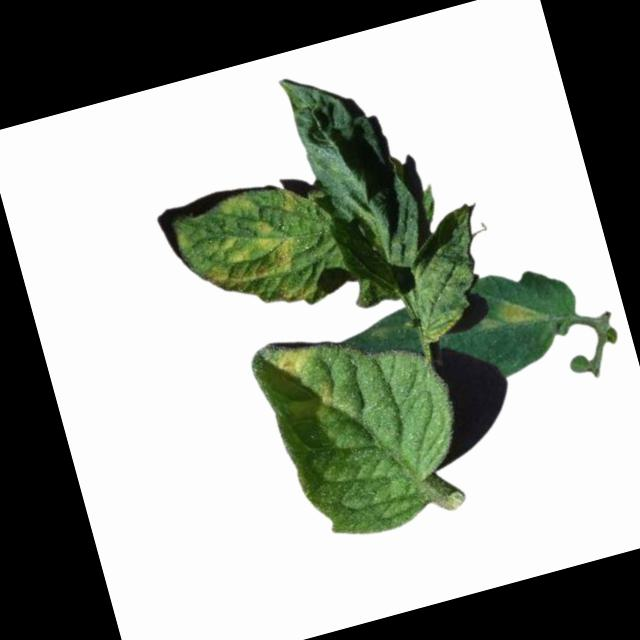Leaf_Mold: (196, 217, 308, 325), (474, 292, 550, 339), (276, 340, 319, 381), (216, 189, 257, 221), (317, 377, 341, 410), (278, 184, 303, 211)
